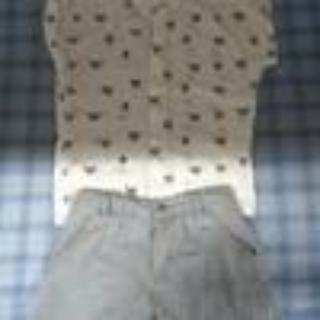short sleeve top: (43, 0, 278, 226)
shorts: (32, 186, 278, 317)
